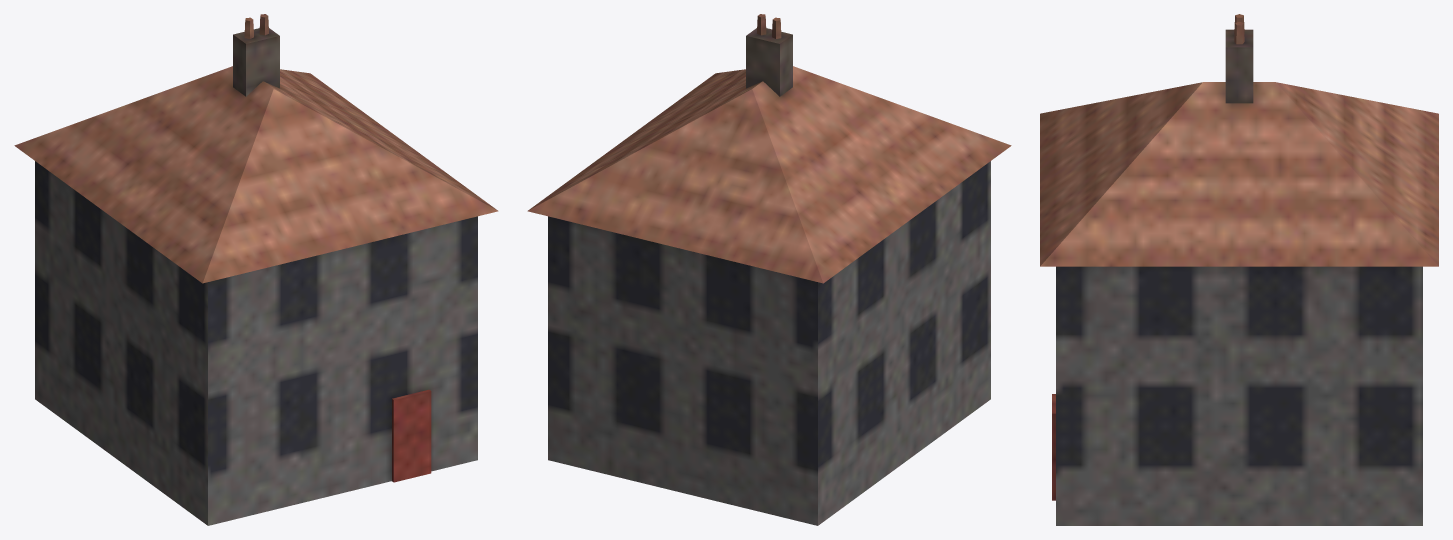
Rendered from SM_House_Terrace_C.fbx.
3 renders of one model, left to right at view 1: azimuth 30°, elevation 25°; view 2: azimuth 150°, elevation 25°; view 3: azimuth 270°, elevation 25°, orthographic. The views are drawn at different scales.
Parts seen in each view (by area): view 1: SM_House_Terrace_C; view 2: SM_House_Terrace_C; view 3: SM_House_Terrace_C.
Part boxes in pixels (x1=…): SM_House_Terrace_C: x1=14, y1=14, x2=498, y2=525; SM_House_Terrace_C: x1=527, y1=14, x2=1011, y2=525; SM_House_Terrace_C: x1=1040, y1=14, x2=1438, y2=525.
Bounding box in the file's own units: 790 × 1050 × 870.
1 material, 1 textured.
